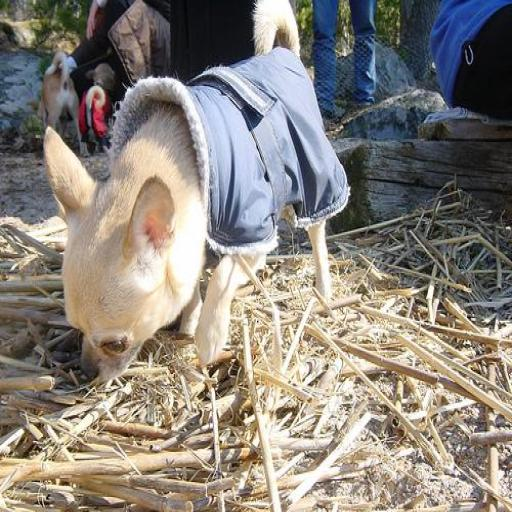dog_face: (40, 137, 178, 382)
